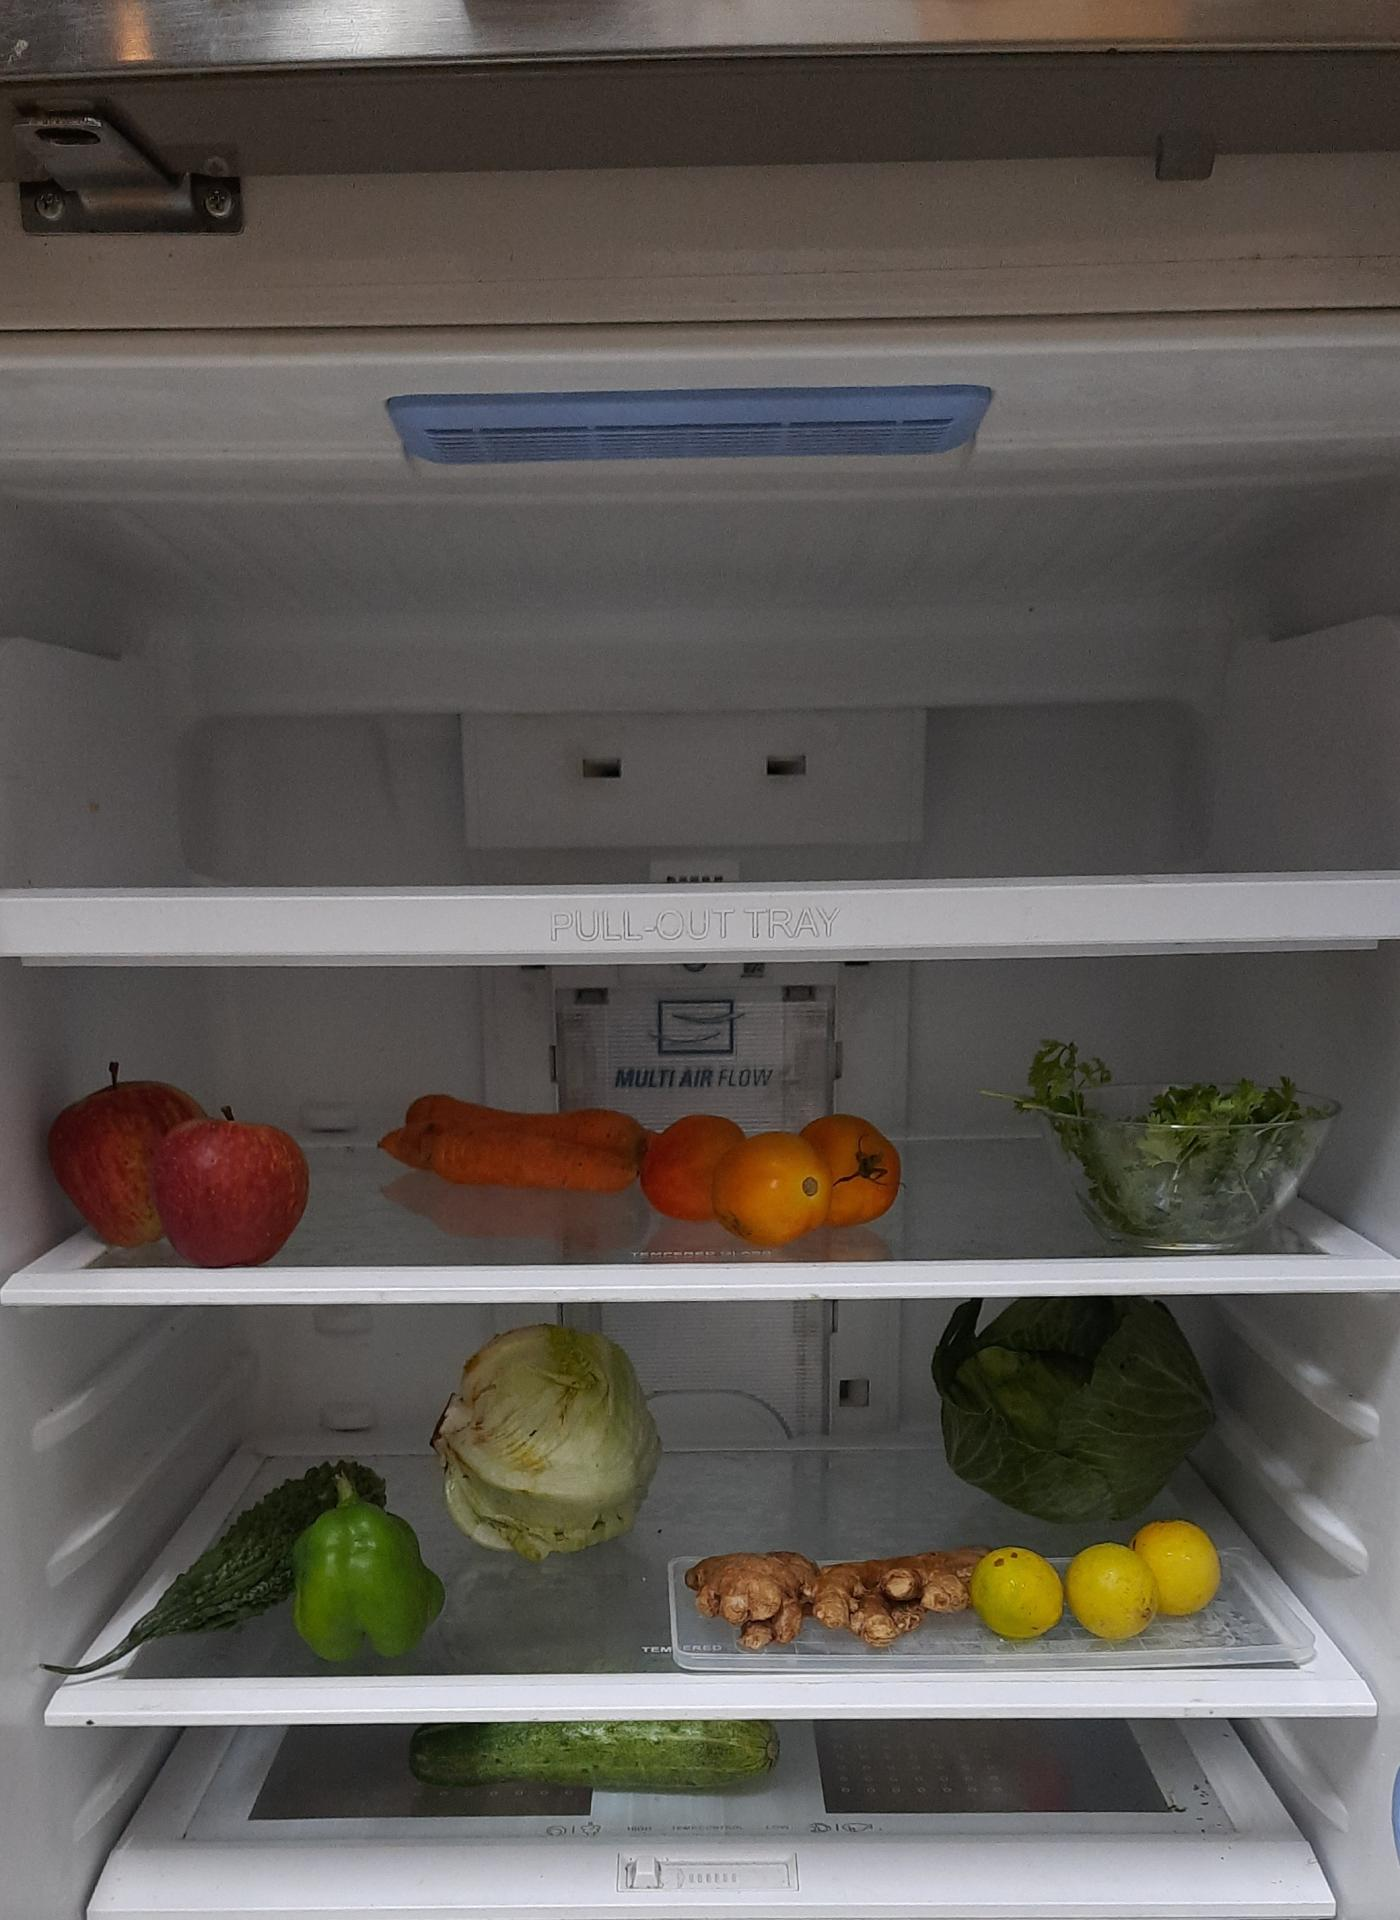apple: (43, 1055, 321, 1275)
bitter gourd: (48, 1436, 401, 1671)
cabbage: (933, 1294, 1214, 1528)
capsicum: (282, 1473, 456, 1676)
carrots: (379, 1073, 655, 1203)
coriander: (1020, 1040, 1321, 1227)
cucumber: (413, 1722, 799, 1798)
ginger: (687, 1543, 999, 1647)
lemon: (968, 1516, 1221, 1637)
lettuce: (432, 1316, 662, 1553)
tomato: (647, 1112, 915, 1242)
